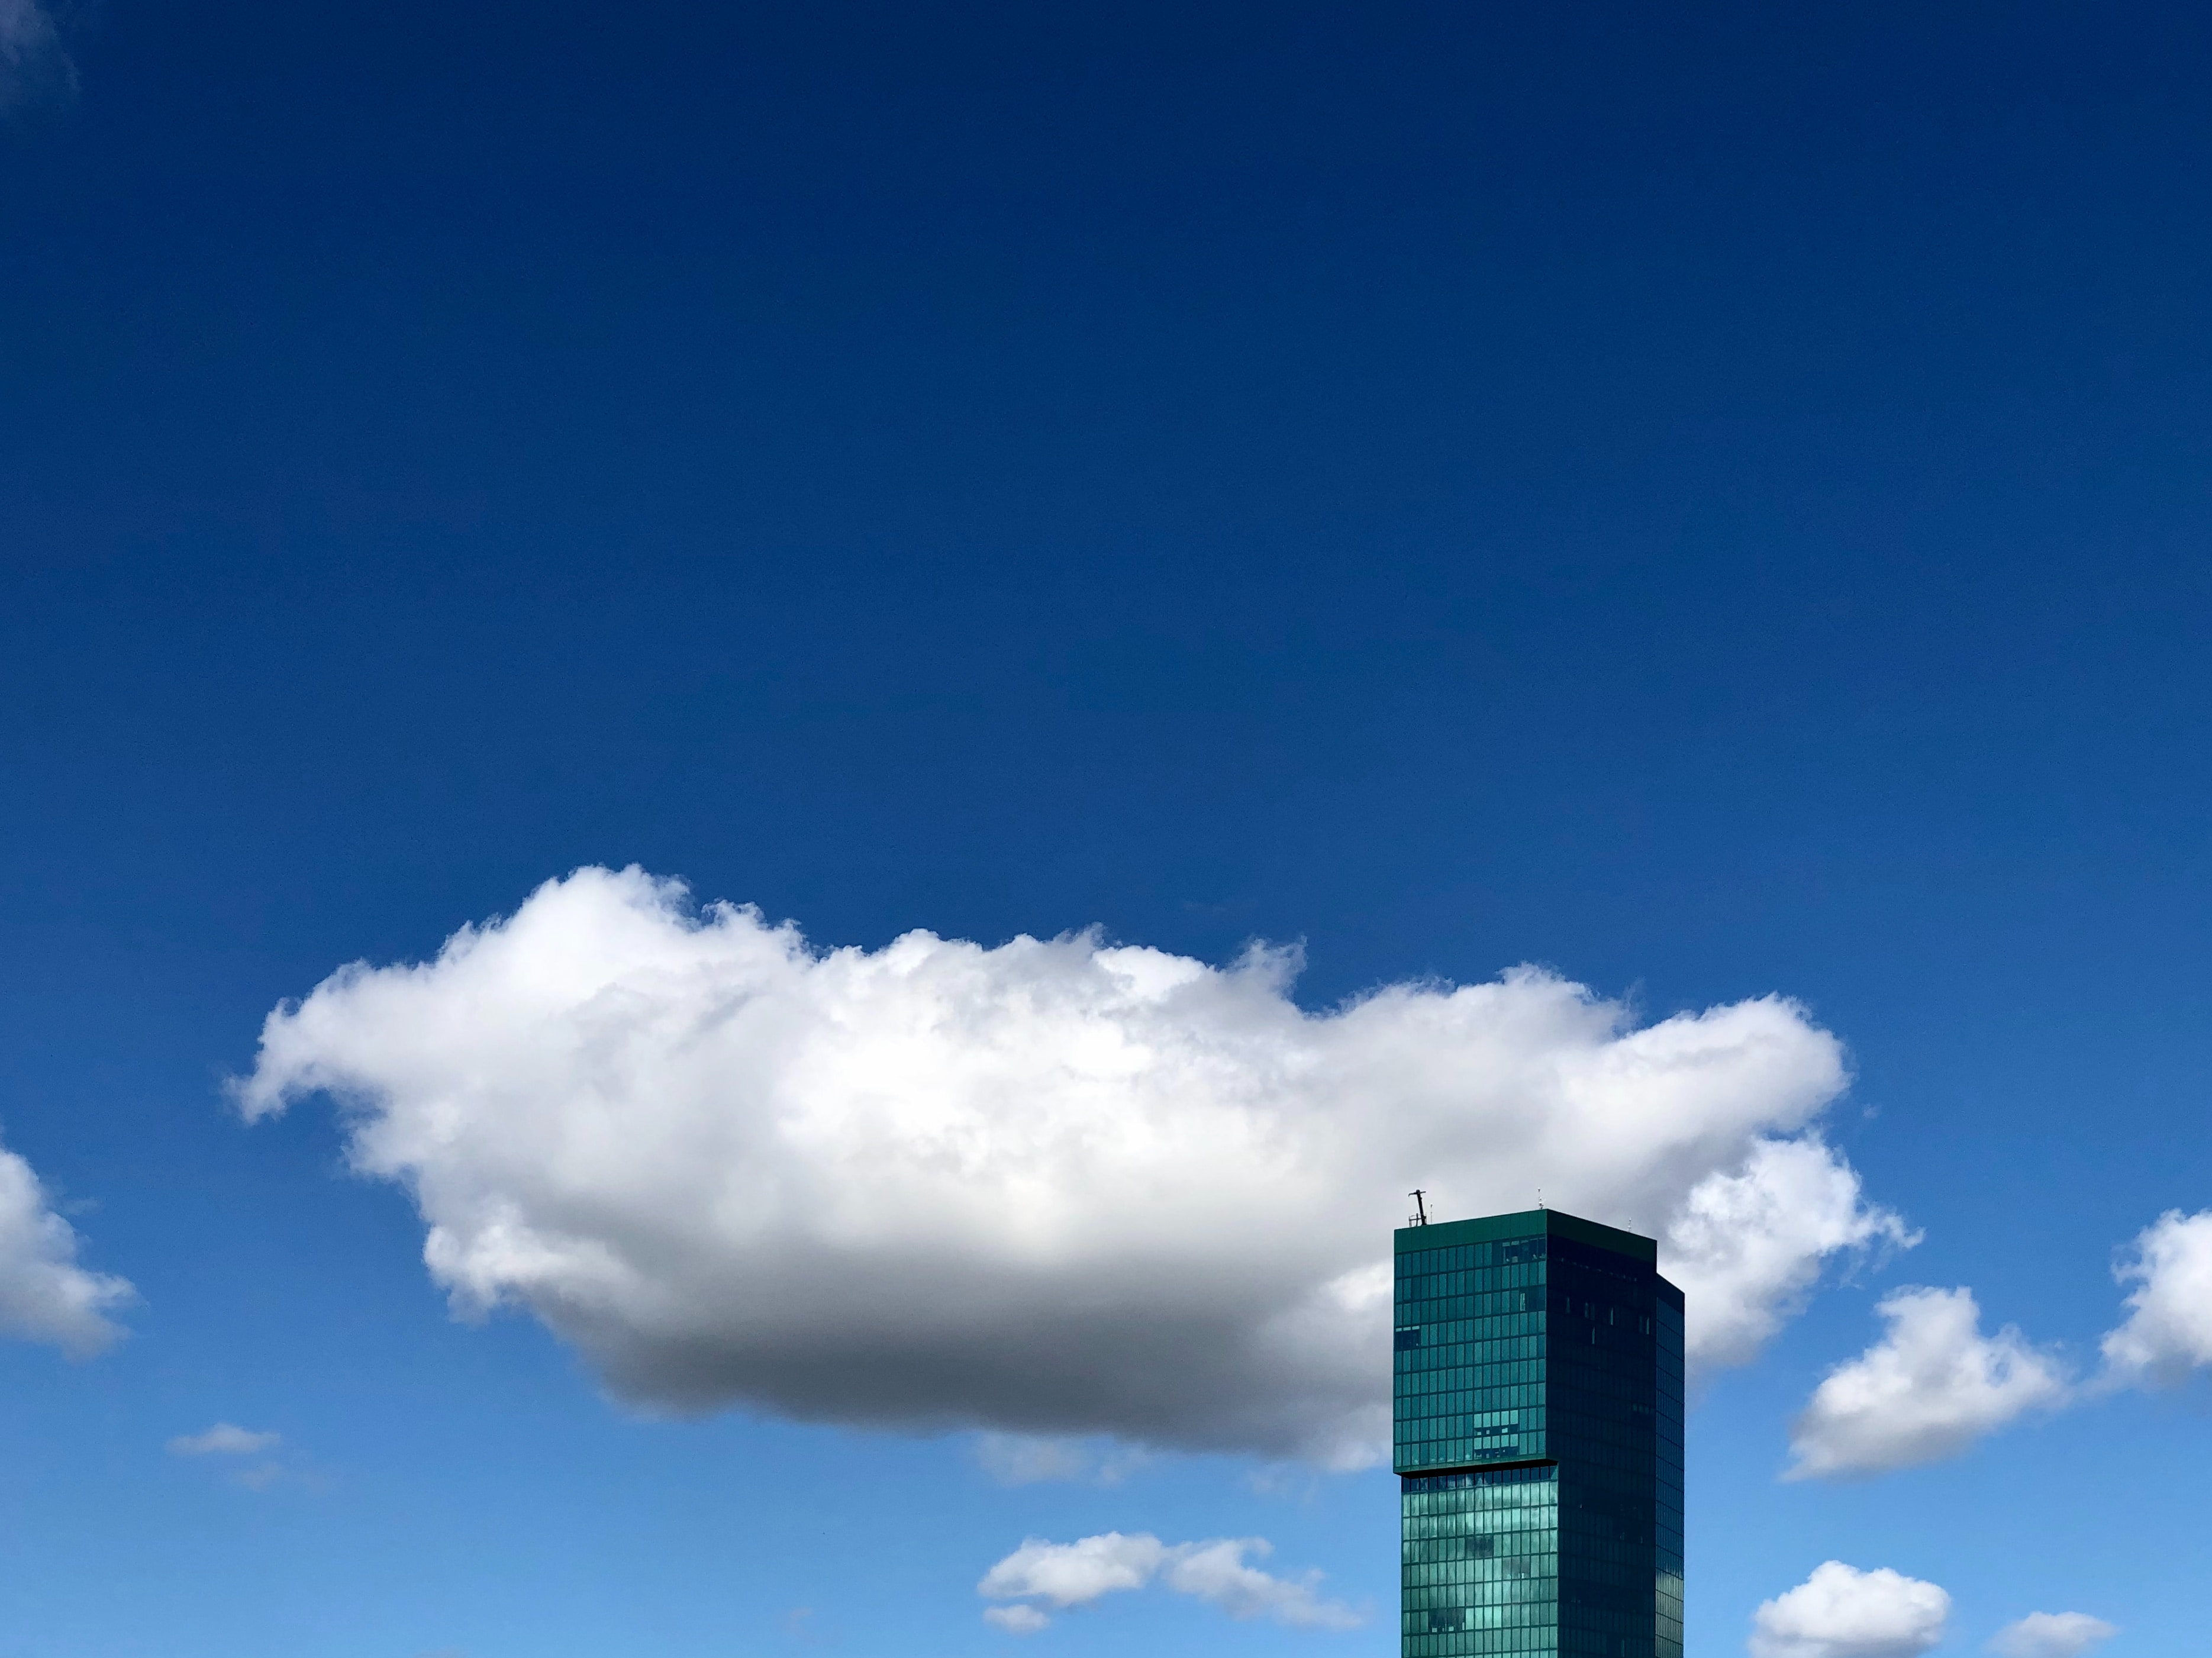Cumulus: (206, 705, 1838, 1454), (1792, 1184, 2212, 1487), (941, 1487, 1383, 1651), (1763, 1527, 1968, 1655), (1998, 1580, 2128, 1658)
